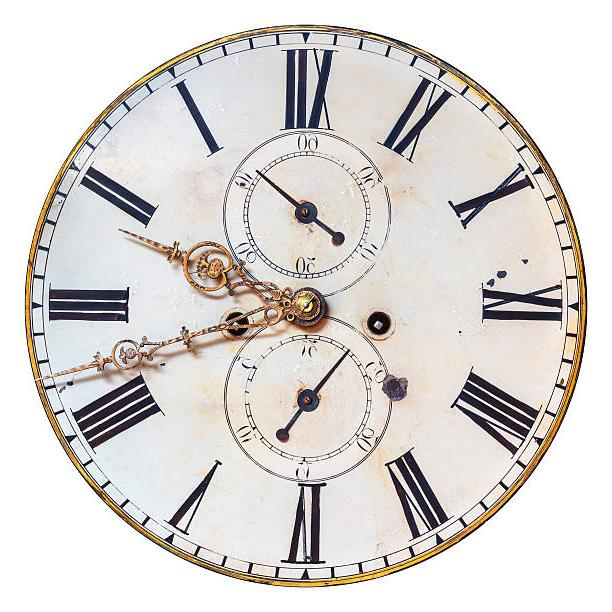clock: (12, 6, 590, 592)
